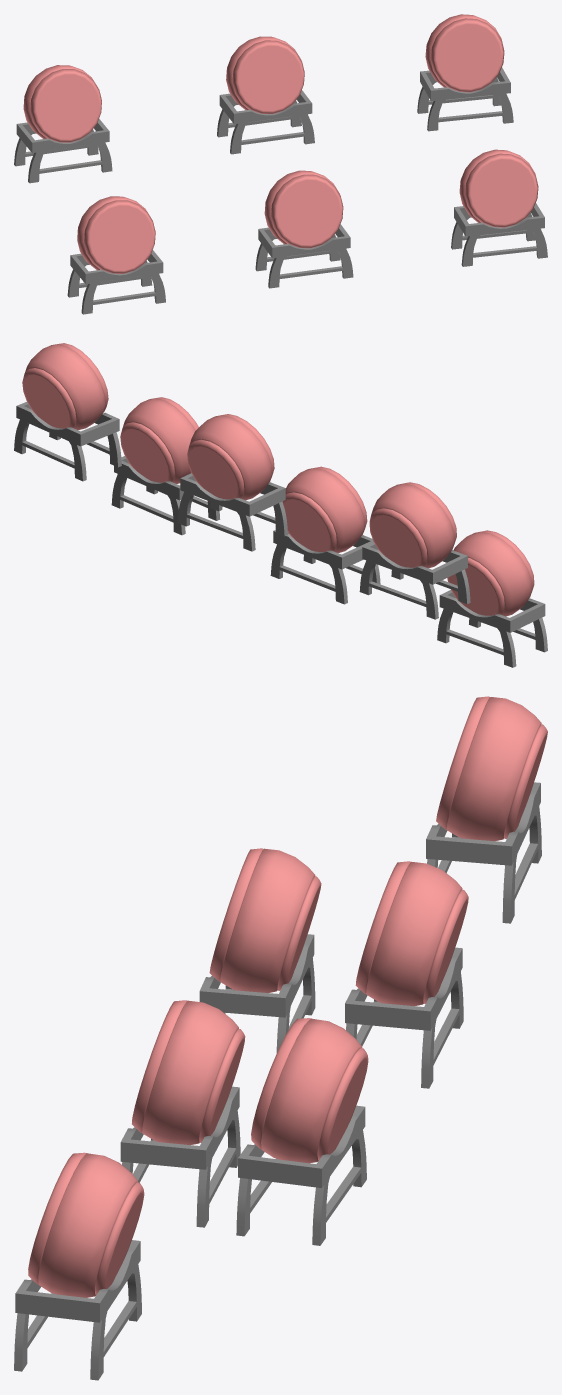
The model's file is CHN_OOB_Drum01_CMB.gltf.
3 renders of one model, top to bottom at view 1: azimuth 30°, elevation 25°; view 2: azimuth 150°, elevation 25°; view 3: azimuth 270°, elevation 25°, orthographic. The views are drawn at different scales.
Parts seen in each view (by area): view 1: CHN_OOB_Drum01_CMB; view 2: CHN_OOB_Drum01_CMB; view 3: CHN_OOB_Drum01_CMB.
Part boxes in pixels (bbox=[...]): CHN_OOB_Drum01_CMB: bbox=[14, 14, 547, 314]; CHN_OOB_Drum01_CMB: bbox=[14, 343, 547, 667]; CHN_OOB_Drum01_CMB: bbox=[14, 696, 547, 1380].
Bounding box in the file's own units: 27.35 × 10.8 × 15.28.
